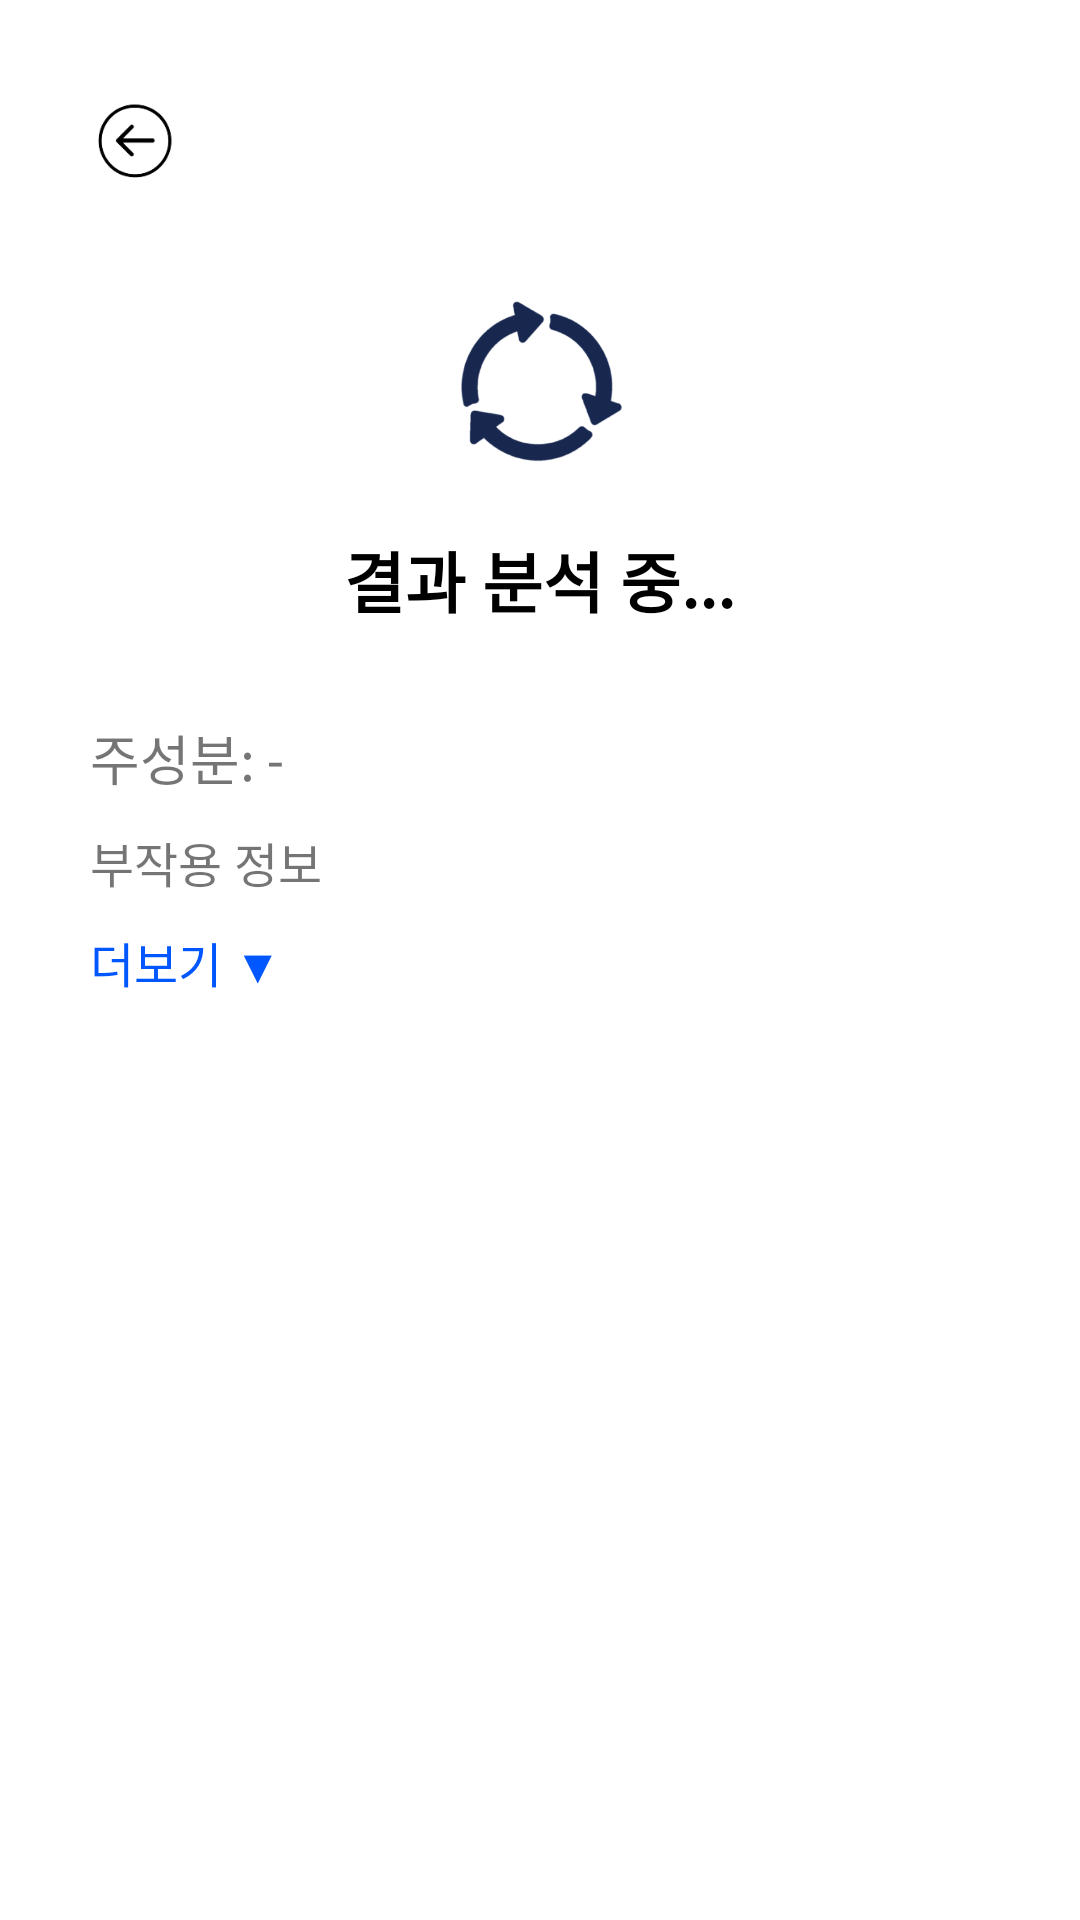

Screen size 1080px×1920px. Icon name, then its box in pixels as [x1, y1, x2, y2]:
pillit analyzing: [461, 301, 622, 461]
pillit back: [98, 104, 172, 178]
